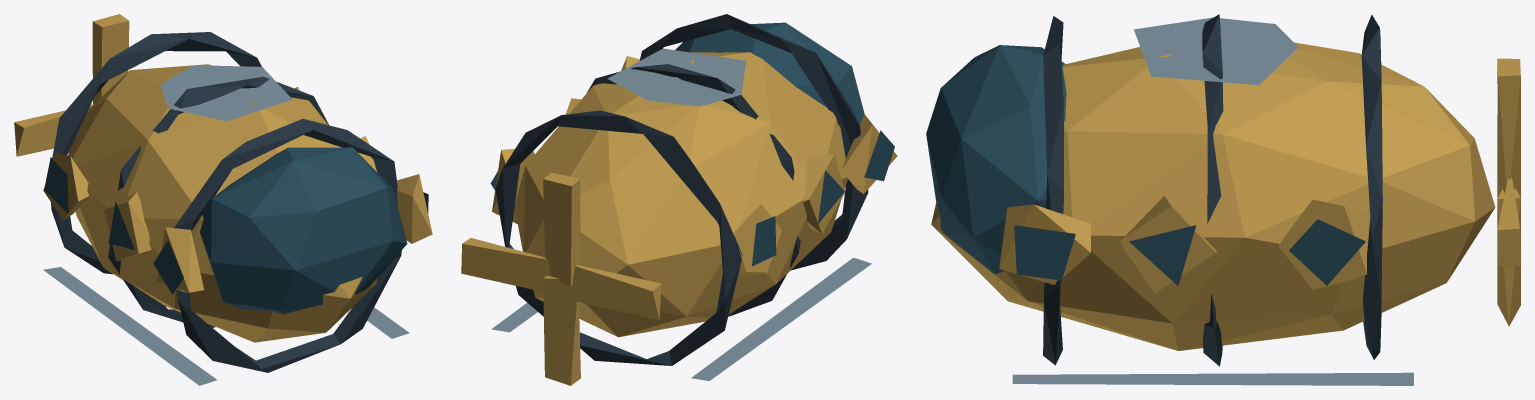
File: submarines-diving-capsule.lod2.glb
The picture shows the model from 3 angles, left to right: view 1: azimuth 30°, elevation 25°; view 2: azimuth 150°, elevation 25°; view 3: azimuth 270°, elevation 25°; orthographic projection. The views are drawn at different scales.
Parts seen in each view (by area): view 1: submarines-diving-capsule__body, submarines-diving-capsule__hatch, submarines-diving-capsule__propeller; view 2: submarines-diving-capsule__body, submarines-diving-capsule__propeller, submarines-diving-capsule__hatch; view 3: submarines-diving-capsule__body, submarines-diving-capsule__hatch, submarines-diving-capsule__propeller.
Boxes of the visible parts, x1=… form: submarines-diving-capsule__body: x1=43, y1=32, x2=432, y2=385; submarines-diving-capsule__hatch: x1=160, y1=65, x2=292, y2=121; submarines-diving-capsule__propeller: x1=14, y1=14, x2=129, y2=156; submarines-diving-capsule__body: x1=490, y1=14, x2=897, y2=380; submarines-diving-capsule__propeller: x1=461, y1=172, x2=661, y2=385; submarines-diving-capsule__hatch: x1=607, y1=48, x2=745, y2=106; submarines-diving-capsule__body: x1=926, y1=14, x2=1495, y2=385; submarines-diving-capsule__hatch: x1=1134, y1=17, x2=1298, y2=85; submarines-diving-capsule__propeller: x1=1497, y1=58, x2=1520, y2=326.
Bounding box in the file's own units: 1.56 × 1.46 × 2.51.
